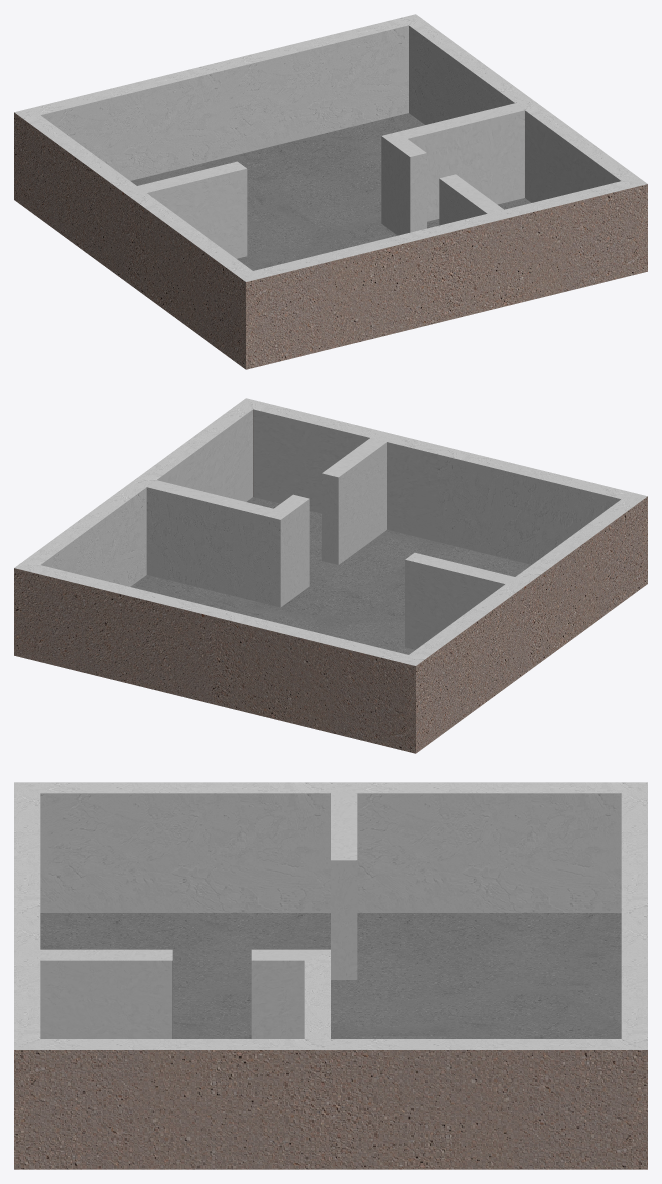
The model's file is LudusXRApartment1.glb.
The picture shows the model from 3 angles, top to bottom: view 1: azimuth 30°, elevation 25°; view 2: azimuth 150°, elevation 25°; view 3: azimuth 270°, elevation 25°; orthographic projection. The views are drawn at different scales.
Parts seen in each view (by area): view 1: Plane; view 2: Plane; view 3: Plane.
Boxes of the visible parts, left/top/right/bottom form: Plane: left=14, top=14, right=647, bottom=369; Plane: left=14, top=398, right=647, bottom=753; Plane: left=14, top=782, right=647, bottom=1169.
Size of the model in its own units: 12 by 2.5 by 12.
1 material, 1 textured.
